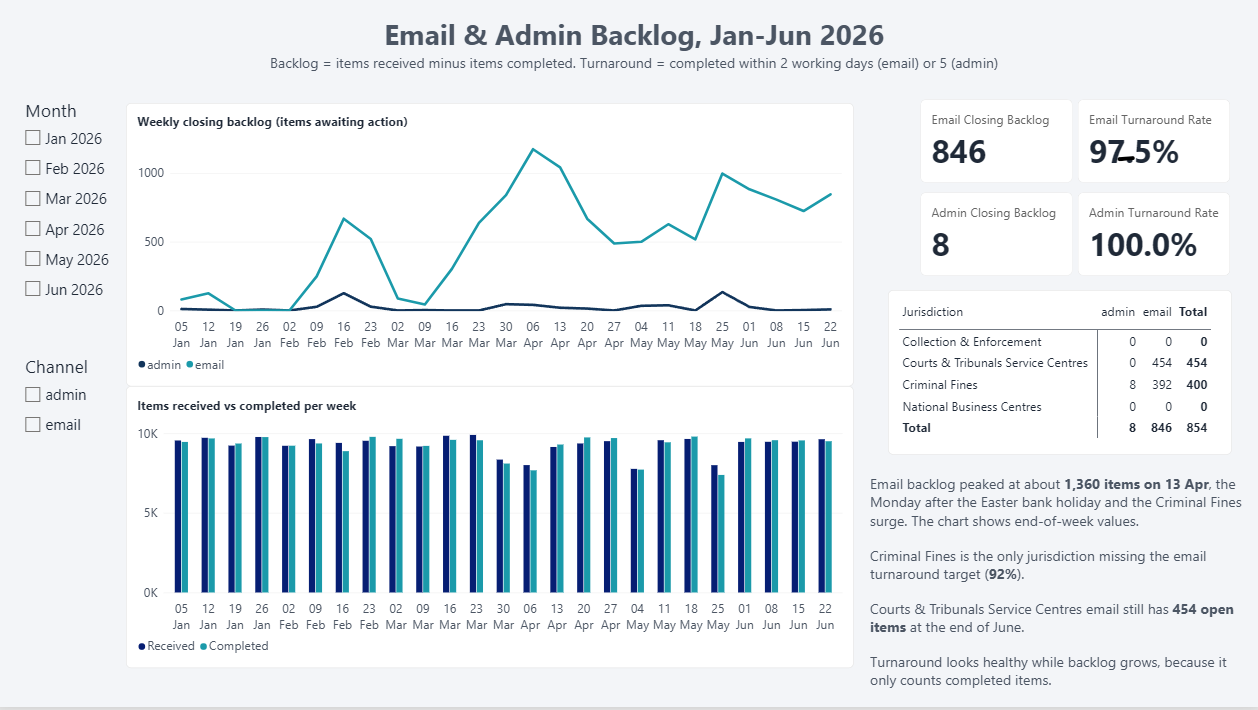

Layout of this report page (visuals, bound fields, positions):
{"tool":"powerbi","page":{"name":"Email & Admin Backlog","canvas":[1920,1080],"ordinal":1},"visuals":[{"type":"cardVisual","fields":{"Data":["_Measures.Admin Closing Backlog","_Measures.Admin Turnaround Rate"]},"box":[1403.7,293.3,477.3,131.3],"z":0},{"type":"textbox","box":[320,24,1298.7,126.7],"z":1000},{"type":"slicer","fields":{"Values":["dim_date.Month"]},"box":[34.2,150.7,148.2,329.9],"z":2000},{"type":"slicer","fields":{"Values":["fact_kpi_daily.channel"]},"box":[34.2,540.6,125.3,244.4],"z":3000},{"type":"lineChart","title":"Weekly closing backlog (items awaiting action)","fields":{"Y":["_Measures.Closing Backlog"],"Series":["fact_kpi_daily.channel"],"Category":["dim_date.Week Start"]},"box":[195.7,158.4,1109.1,431.8],"z":4000},{"type":"pivotTable","fields":{"Rows":["dim_jurisdiction.jurisdiction"],"Columns":["fact_kpi_daily.channel"],"Values":["_Measures.Closing Backlog"]},"box":[1356.4,443,523.9,250.5],"z":5000},{"type":"clusteredColumnChart","title":"Items received vs completed per week","fields":{"Y":["_Measures.Received","_Measures.Completed"],"Category":["dim_date.Week Start"]},"box":[195.7,590.3,1109.1,430.3],"z":6000},{"type":"textbox","box":[1328.9,724,580.4,355.9],"z":7000},{"type":"cardVisual","fields":{"Data":["_Measures.Email Closing Backlog","_Measures.Email Turnaround Rate"]},"box":[1403.7,151.2,477.3,131.3],"z":8000}]}

Visuals, with their boxes in screenshot pixels (x1, y1, x2, y2), scaled from the page's 1920x1080 canvas onto the 1258x710 screenshot:
cardVisual - _Measures.Admin Closing Backlog x _Measures.Admin Turnaround Rate: 920/193/1232/279
textbox: 210/16/1061/99
slicer - dim_date.Month: 22/99/120/316
slicer - fact_kpi_daily.channel: 22/355/105/516
"Weekly closing backlog (items awaiting action)" lineChart: 128/104/855/388
pivotTable - dim_jurisdiction.jurisdiction x fact_kpi_daily.channel: 889/291/1232/456
"Items received vs completed per week" clusteredColumnChart: 128/388/855/671
textbox: 871/476/1251/709
cardVisual - _Measures.Email Closing Backlog x _Measures.Email Turnaround Rate: 920/99/1232/186
